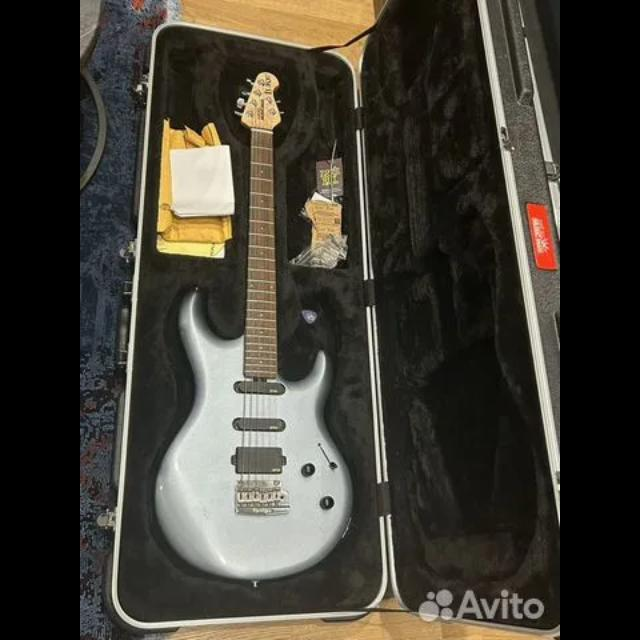Electric-Guitar: (154, 74, 354, 584)
